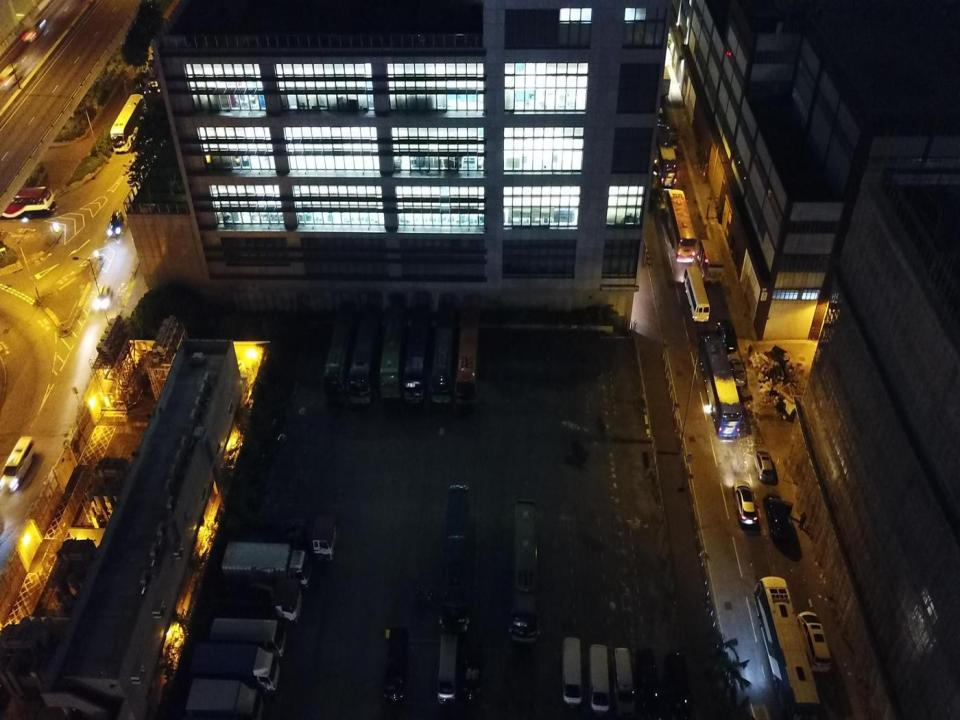bus: (754, 576, 820, 719), (698, 334, 743, 439), (508, 497, 539, 646), (439, 485, 470, 632), (347, 298, 383, 406), (322, 301, 356, 403), (402, 302, 432, 405), (207, 619, 287, 655), (454, 302, 480, 408), (432, 302, 457, 405), (381, 304, 406, 400), (664, 189, 696, 262), (111, 93, 148, 152), (0, 186, 58, 222), (653, 124, 677, 188), (683, 268, 710, 322), (147, 40, 170, 93)
car: (762, 492, 794, 544), (733, 481, 758, 528), (464, 640, 484, 697), (752, 446, 775, 484), (717, 319, 737, 352), (728, 353, 746, 388), (24, 18, 48, 40), (108, 210, 124, 236), (95, 286, 113, 309), (667, 126, 680, 154)
truck: (236, 516, 339, 560), (190, 641, 280, 691), (210, 576, 304, 622), (221, 542, 312, 588), (184, 677, 264, 717), (697, 238, 723, 285)
van: (797, 612, 831, 674), (634, 648, 664, 718), (384, 625, 410, 702), (663, 653, 693, 719), (1, 436, 36, 490), (611, 647, 636, 716), (588, 644, 611, 715), (561, 637, 584, 707), (437, 632, 458, 704), (0, 63, 23, 87)
